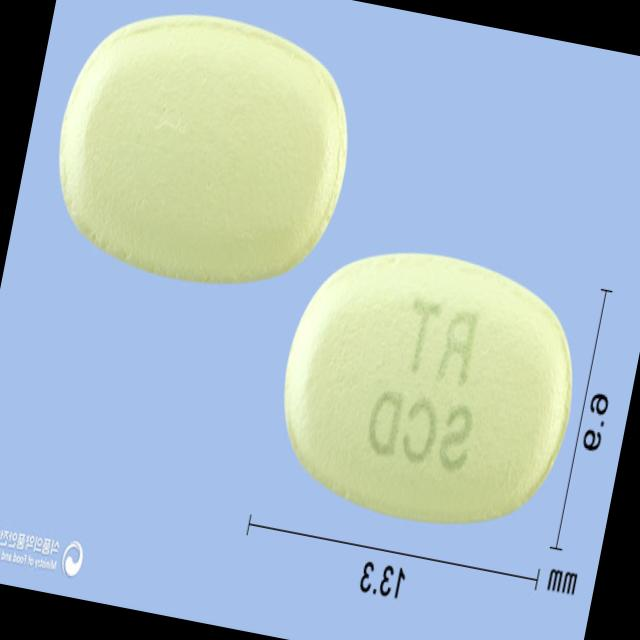Retos Tab: (264, 228, 596, 540)
